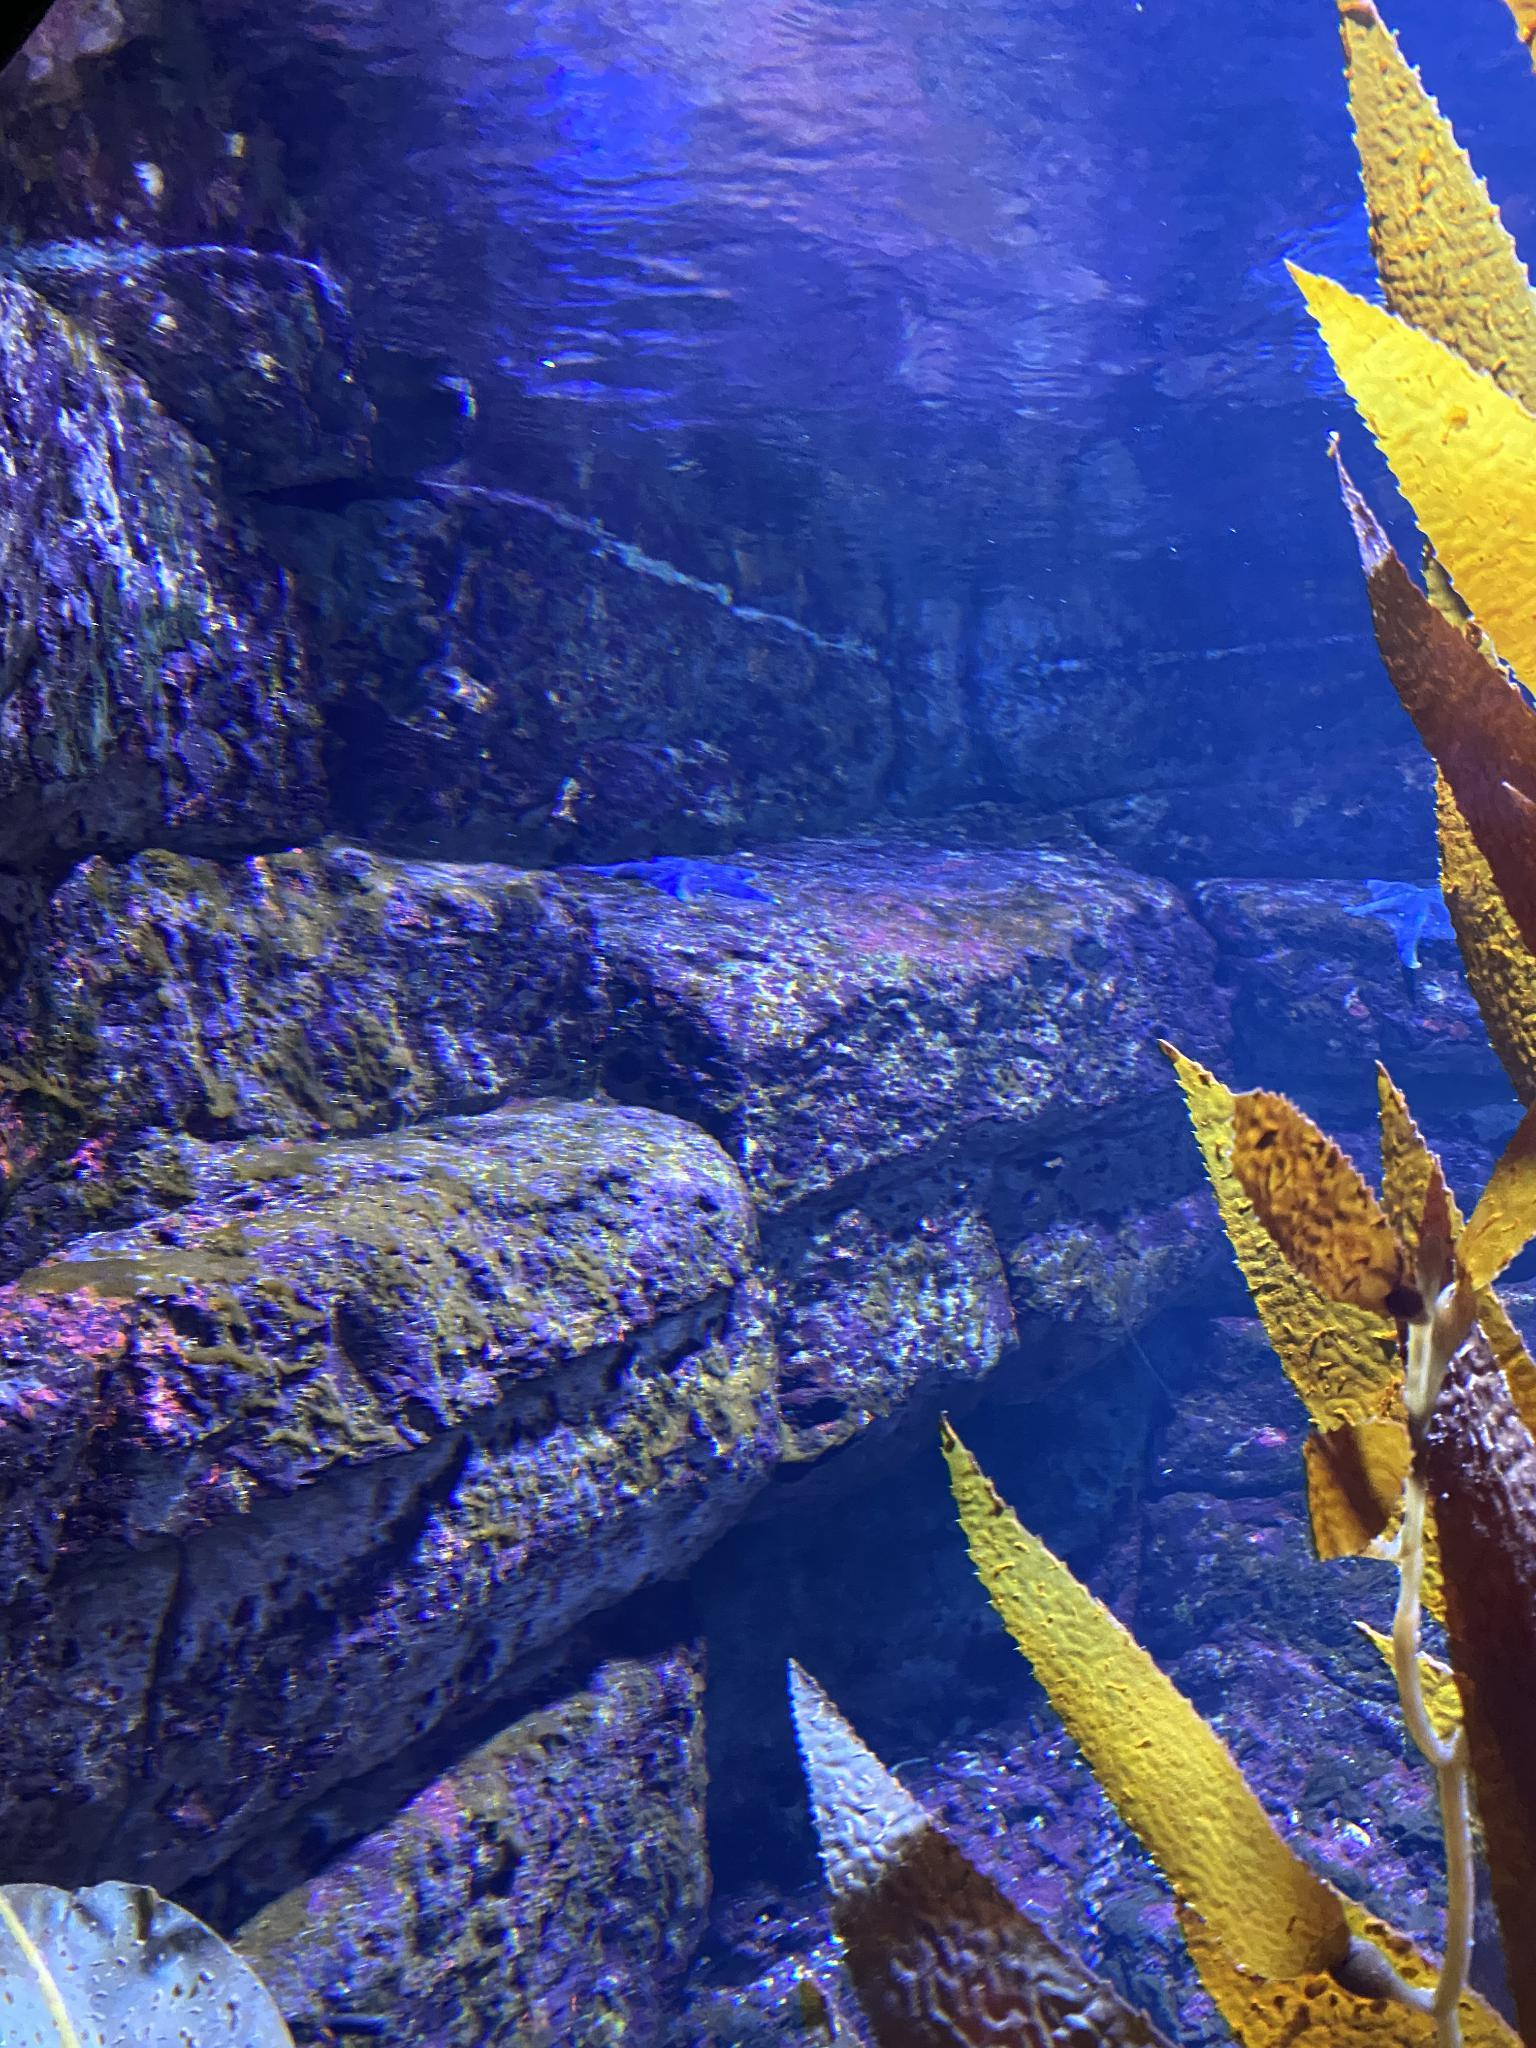starfish: (1347, 871, 1475, 984), (608, 834, 778, 910)
